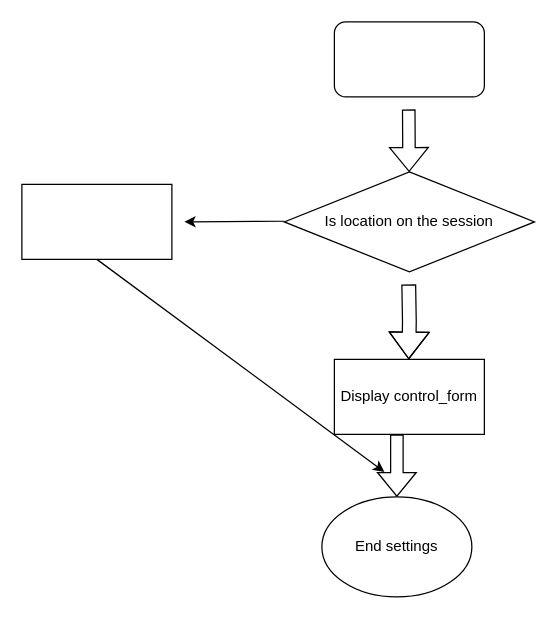
Image size: 558x619. Some labels were removed from this diagram. Here are the shapes that lost their labels. From the top down, the box of each, then its label:
(333, 21, 484, 97): Begin settings
(21, 183, 172, 259): Open Settings_form
